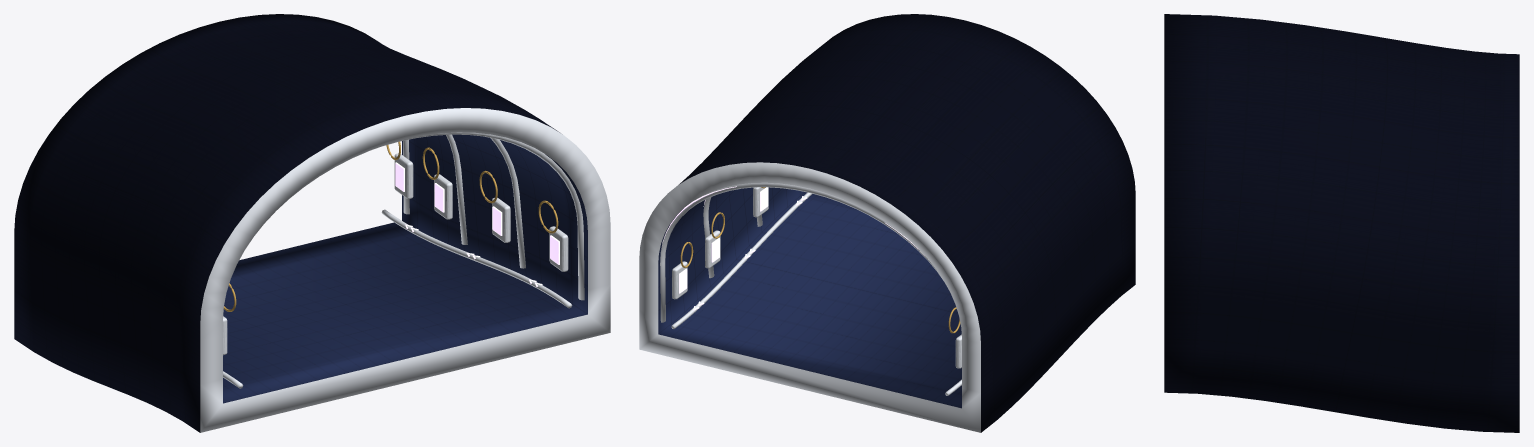
Rendered from grade_down.glb.
3 renders of one model, left to right at view 1: azimuth 30°, elevation 25°; view 2: azimuth 150°, elevation 25°; view 3: azimuth 270°, elevation 25°, orthographic. The views are drawn at different scales.
Visible parts, largest first — view 1: TunnelGeometry; view 2: TunnelGeometry; view 3: TunnelGeometry.
Part boxes in pixels (x1=…): TunnelGeometry: x1=14, y1=14, x2=610, y2=432; TunnelGeometry: x1=639, y1=14, x2=1135, y2=432; TunnelGeometry: x1=1164, y1=14, x2=1519, y2=432.
Bounding box in the file's own units: 15.3 × 11.02 × 12.
Materials: 5 (2 with a texture image).
